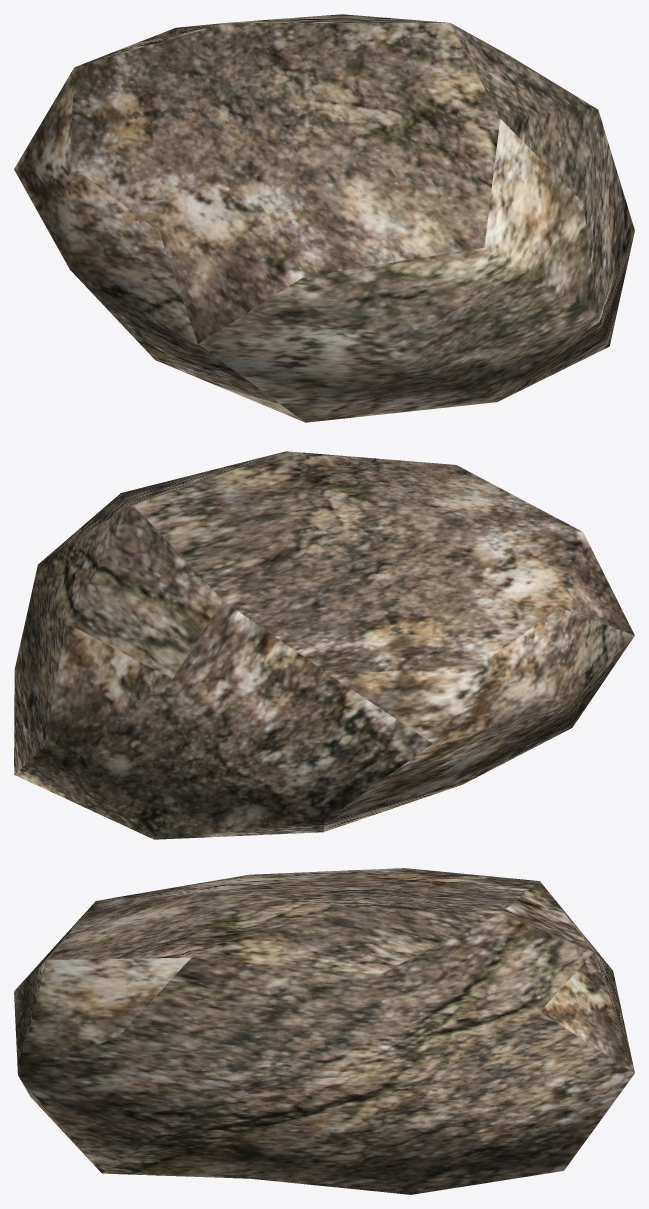
File: Rock03.fbx
3 views of the same model, one above another, from view 1: azimuth 30°, elevation 25°; view 2: azimuth 150°, elevation 25°; view 3: azimuth 270°, elevation 25° (orthographic). The views are drawn at different scales.
Parts seen in each view (by area): view 1: Icosphere_001; view 2: Icosphere_001; view 3: Icosphere_001.
Part boxes in pixels (box(x1,y1,x2,y2)): Icosphere_001: box(14, 14, 634, 422); Icosphere_001: box(14, 451, 634, 839); Icosphere_001: box(14, 868, 634, 1194).
Size of the model in its own units: 2.51 by 1.14 by 2.83.
1 material, 1 textured.
